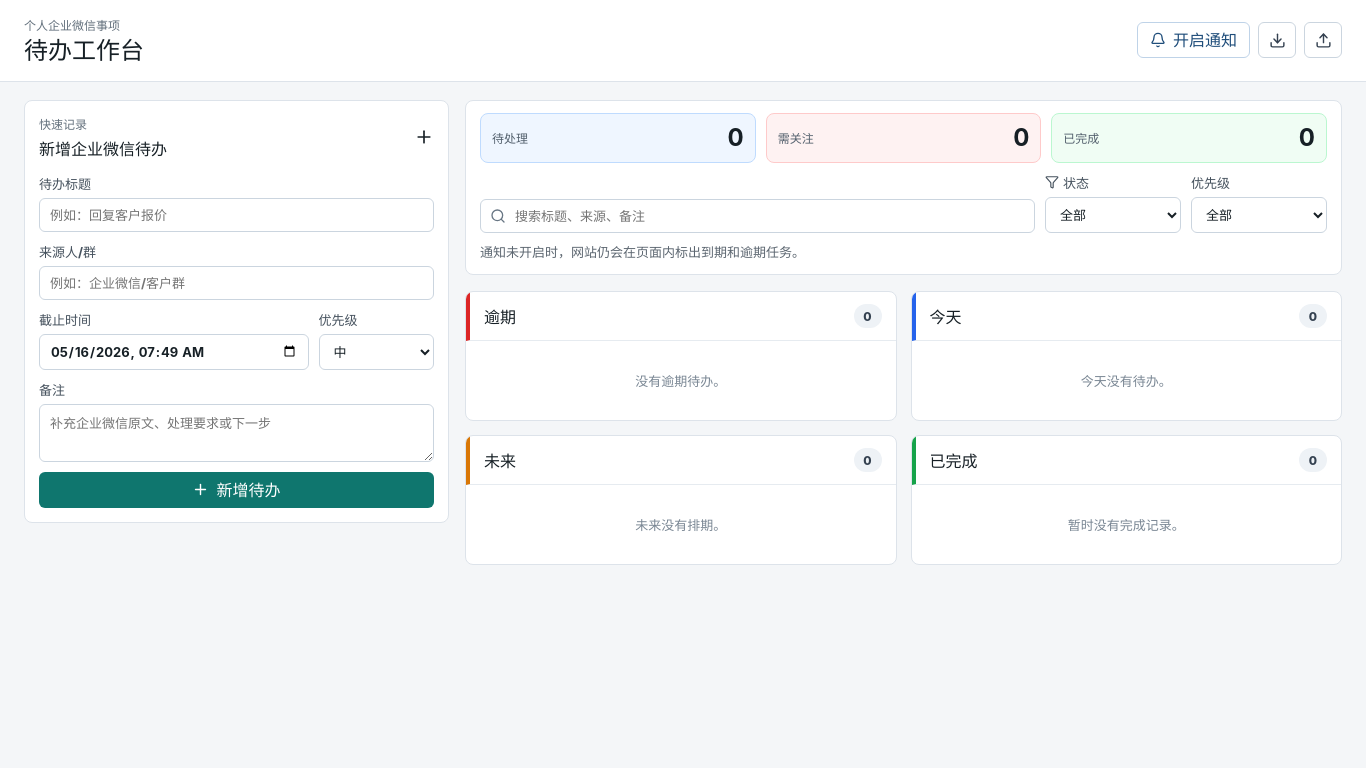
it: App › shows inline feedback when browser notifications are unsupported
Click the button "开启通知": (1194, 40) 1137,22 -> 1250,58
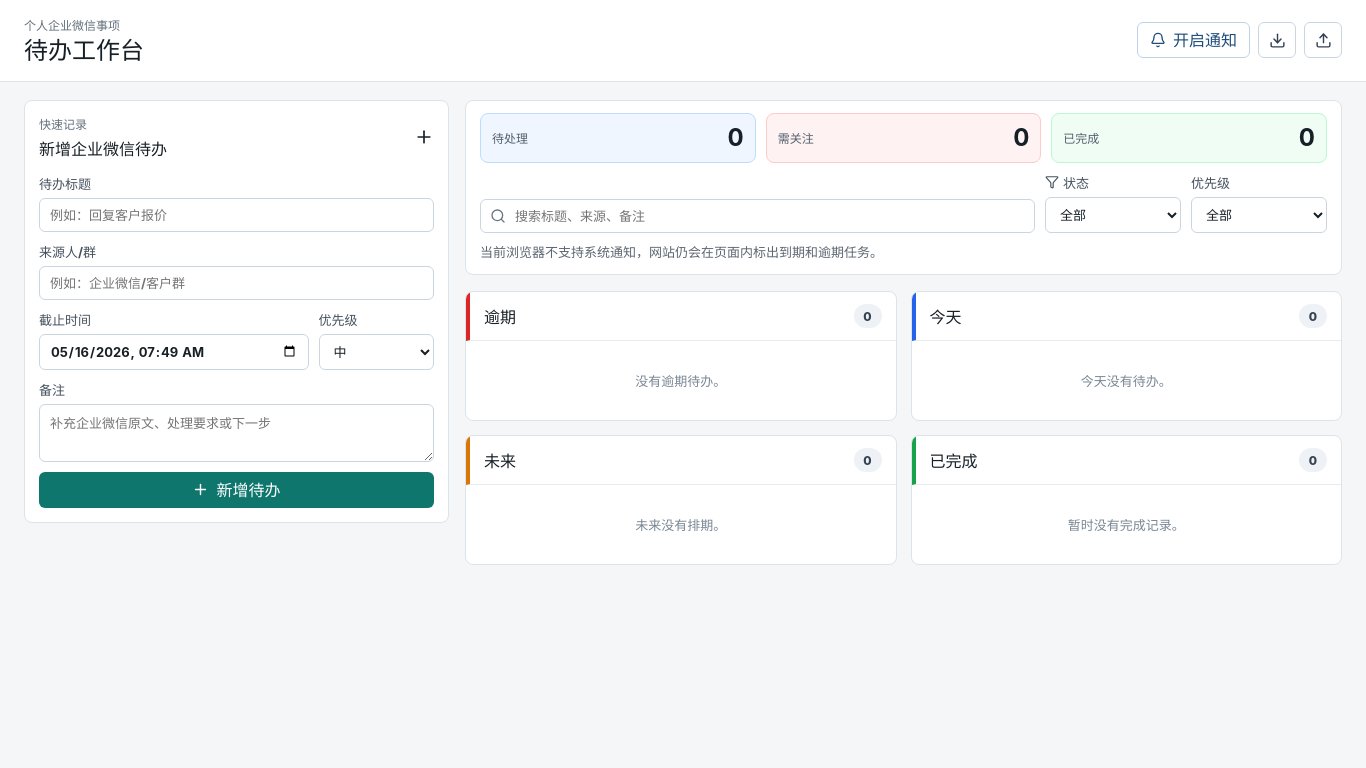
Expected: the text "当前浏览器不支持系统通知，网站仍会在页面内标出到期和逾期任务。" is shown, 480,244 -> 883,260
